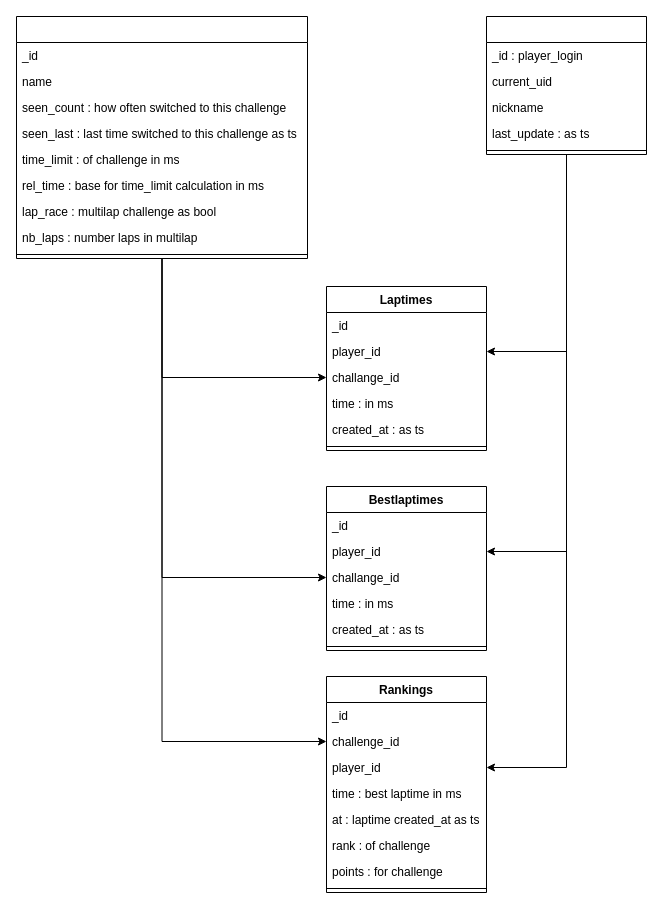
This 663x909 diagram has some shape labels left out. Here are the shapes that lost their labels. From the top down, the box of each, then its label:
(486, 16, 646, 154): Players
(16, 16, 308, 258): Challanges
